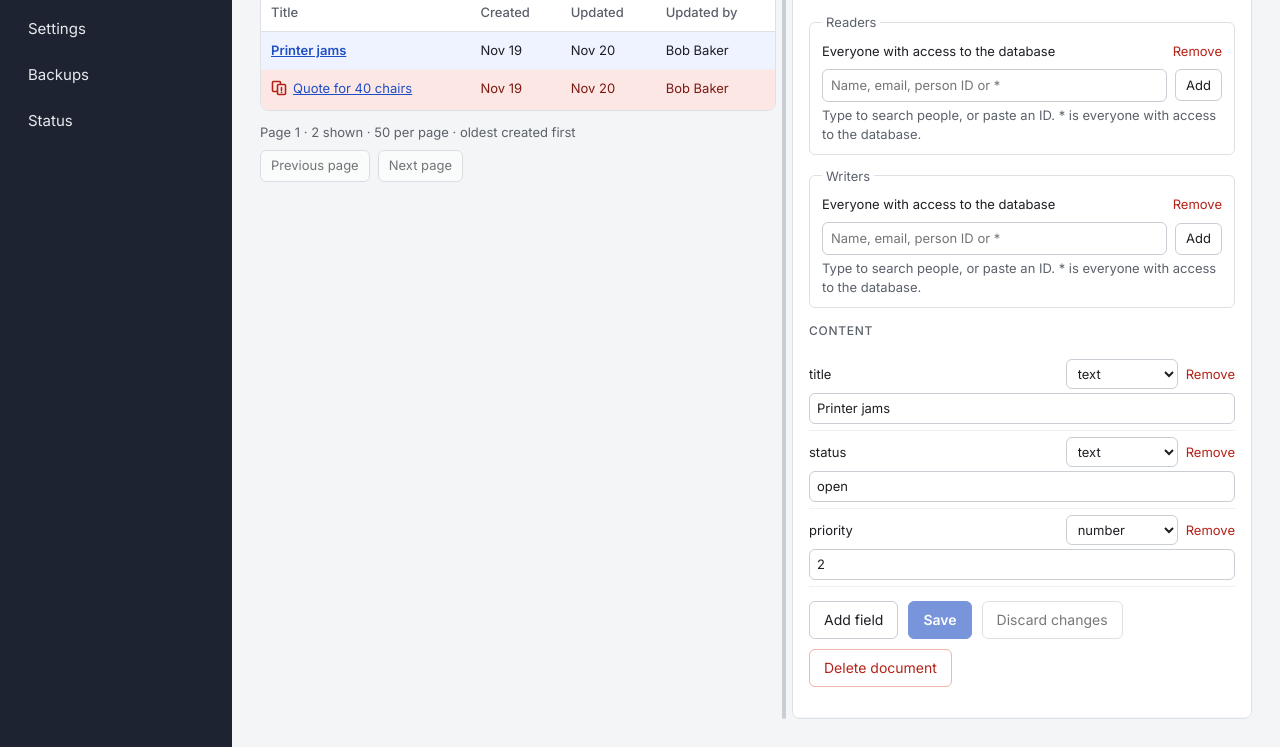
the inspector › keeps the edits on screen when the document changed meanwhile, until Reload
(page scrolled)
Replace the text in the field named "Value of status" with "mine": (1022, 486) x1=809 y1=471 x2=1235 y2=502
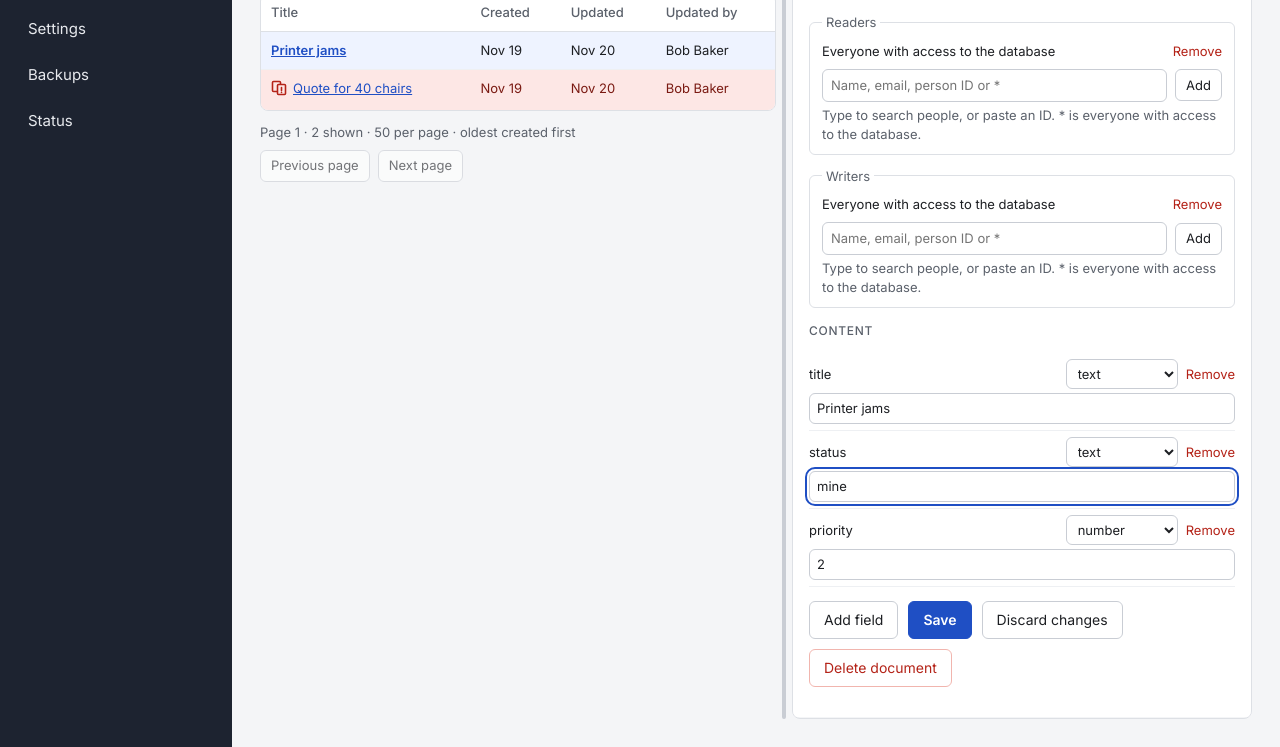
Click the button "Save": (940, 620) x1=908 y1=601 x2=972 y2=639
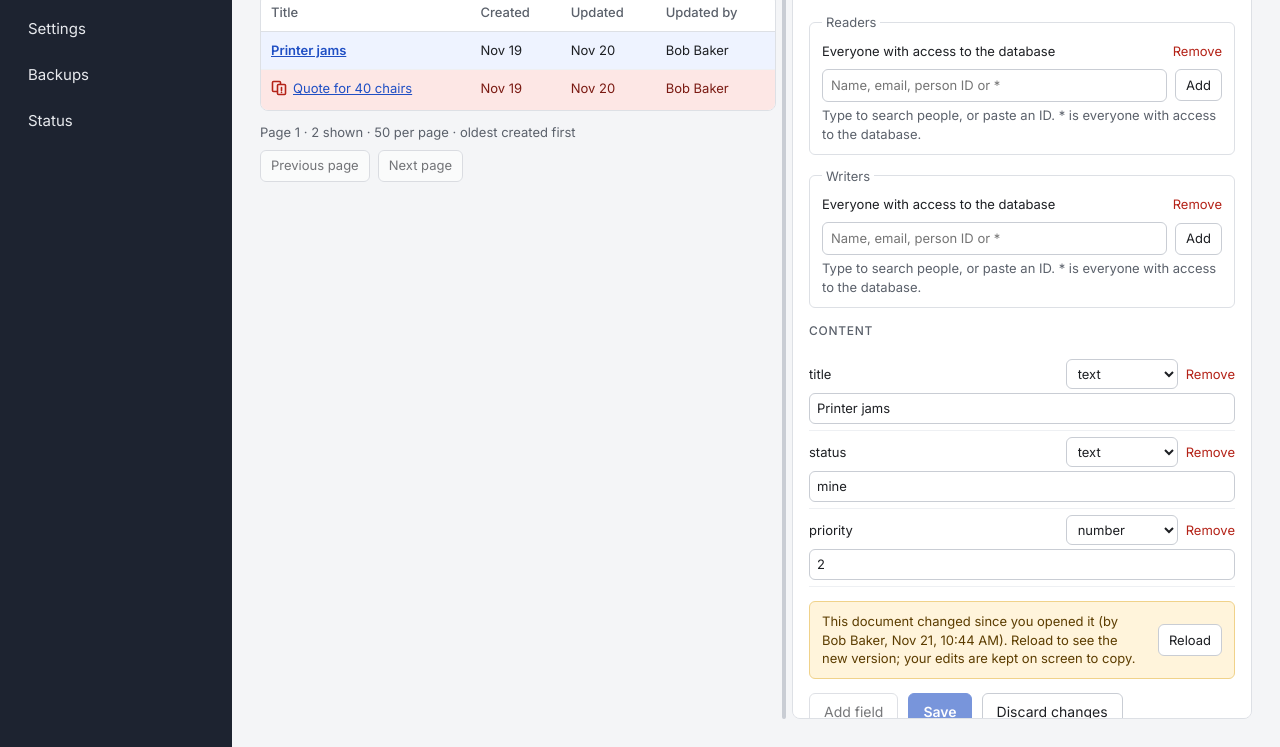
expect the button "Save" is disabled: met, box x1=908 y1=693 x2=972 y2=718
Click the button "Reload": (1190, 640) x1=1158 y1=624 x2=1222 y2=656
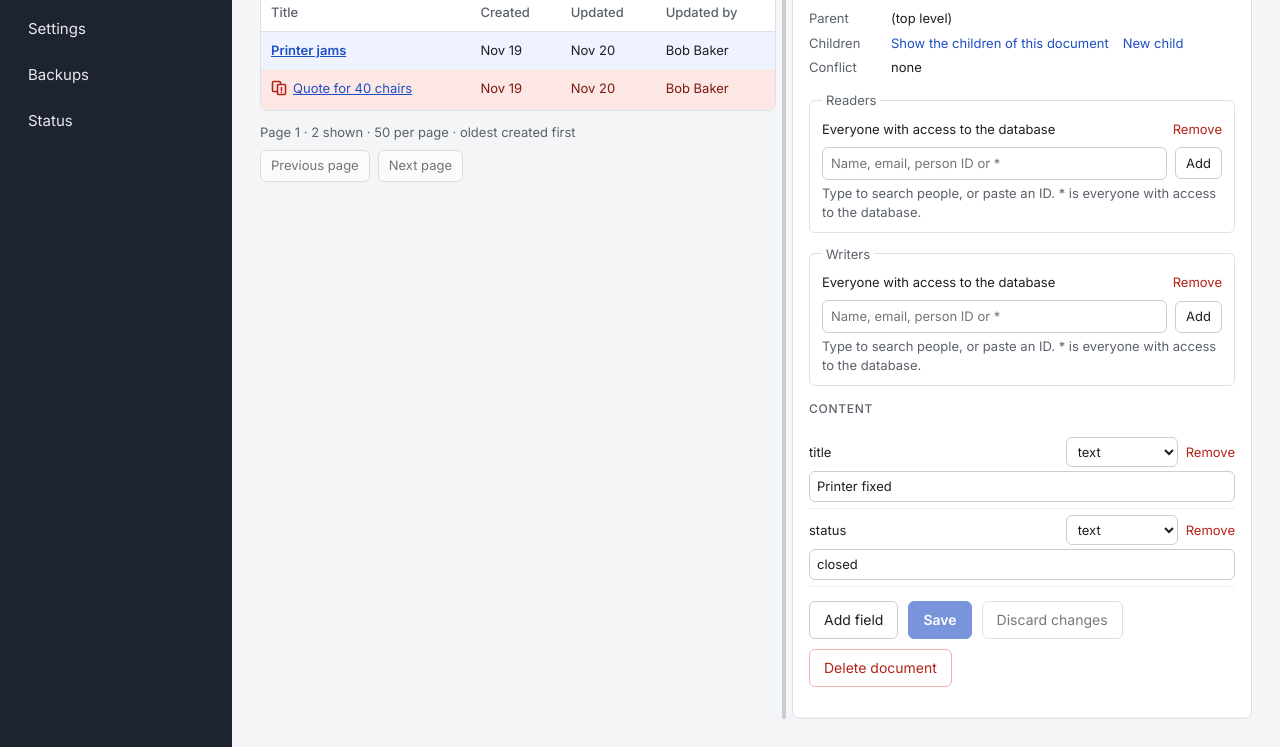
expect the field named "Value of title" holds "Printer fixed": met, box x1=809 y1=471 x2=1235 y2=502
expect the message is gone: met
